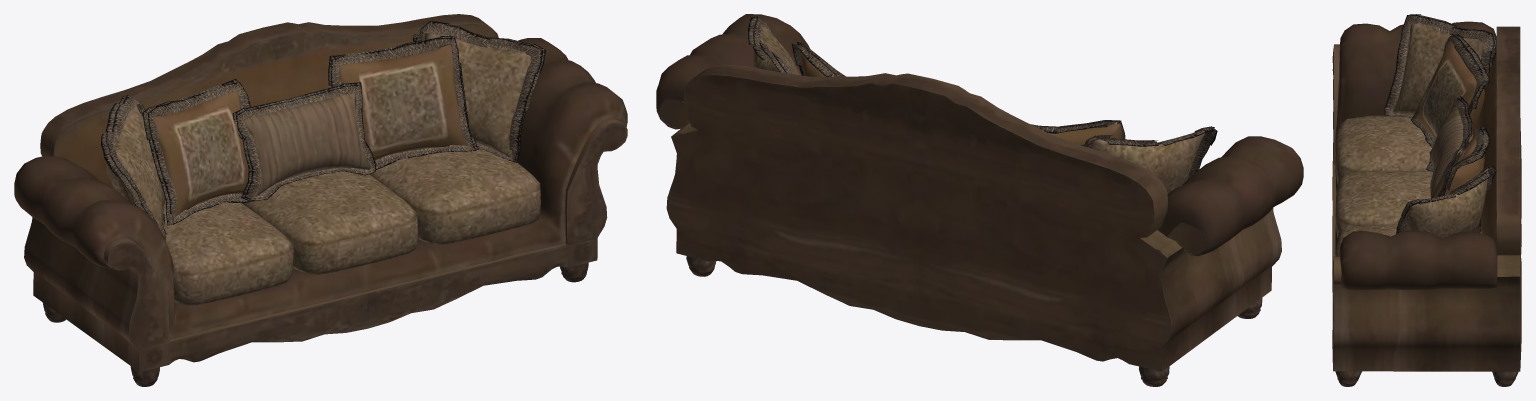
File: sofa_03.glb
3 views of the same model, side by side, from view 1: azimuth 30°, elevation 25°; view 2: azimuth 150°, elevation 25°; view 3: azimuth 270°, elevation 25° (orthographic). The views are drawn at different scales.
Visible parts, largest first — view 1: sofa_03; view 2: sofa_03; view 3: sofa_03.
Boxes of the visible parts, <box> form: sofa_03: <box>14,14,627,386</box>; sofa_03: <box>656,14,1303,386</box>; sofa_03: <box>1332,14,1521,386</box>.
Size of the model in its own units: 2.73 by 1.12 by 0.9254.
Materials: 2 (2 with a texture image).
